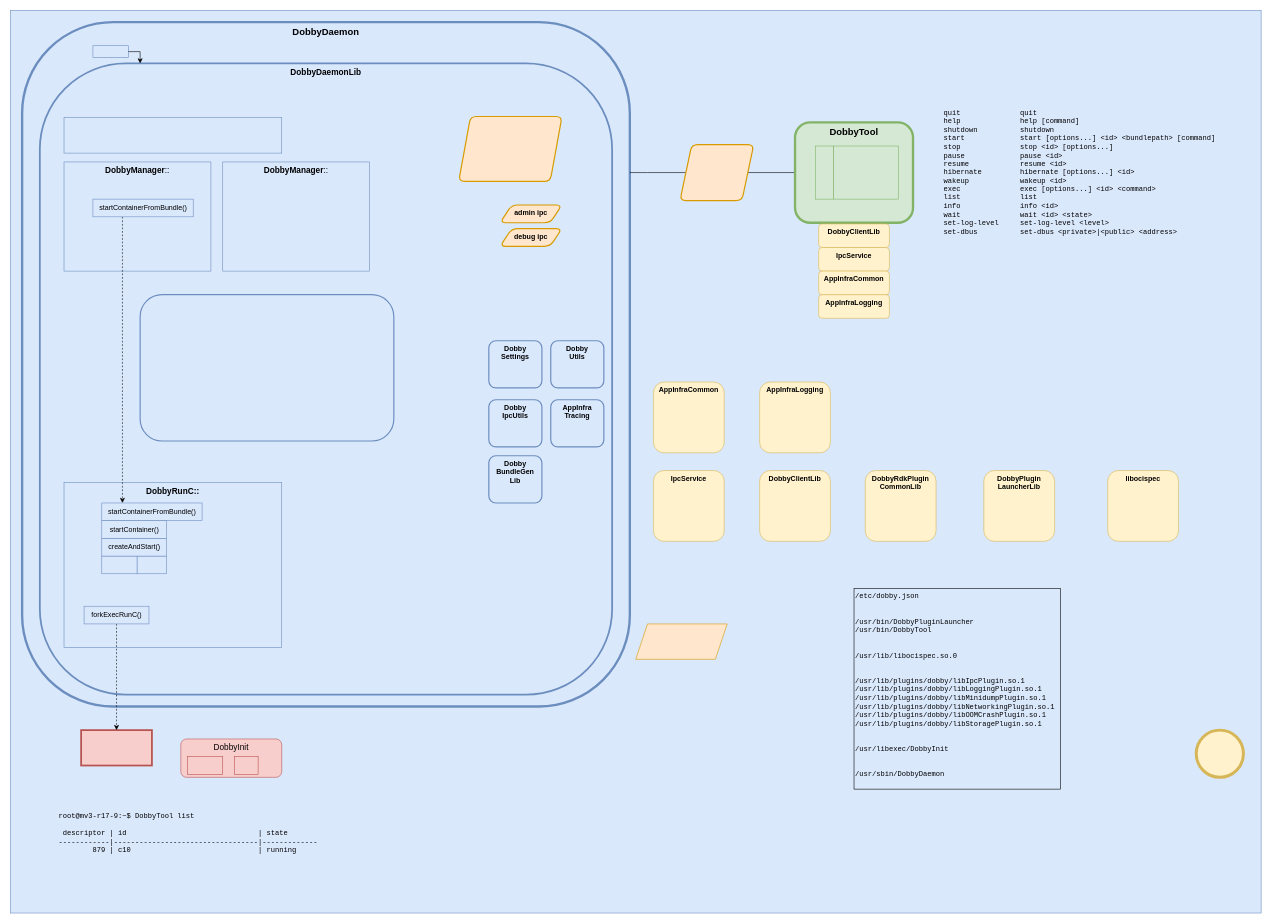
Image size: 1271x923. Some labels were removed from this diagram. Each missing label, with the centre of its shape:
create(): (x=119, y=564)
crun: (x=116, y=747)
ctrl ipc start start_from_bundle stop exec ...: (x=510, y=149)
dbus-daemon ctrl admin debug: (x=716, y=172)
Dobby::: (x=172, y=135)
DobbyPluginLauncherLib: (x=266, y=367)
dobbyproxy: (x=824, y=172)
initmain: (x=205, y=765)
libNetworkingPlugin.so: (x=681, y=641)
log: (x=246, y=765)
main: (x=110, y=51)
main command runner libreadline: (x=865, y=172)
start(): (x=152, y=564)
